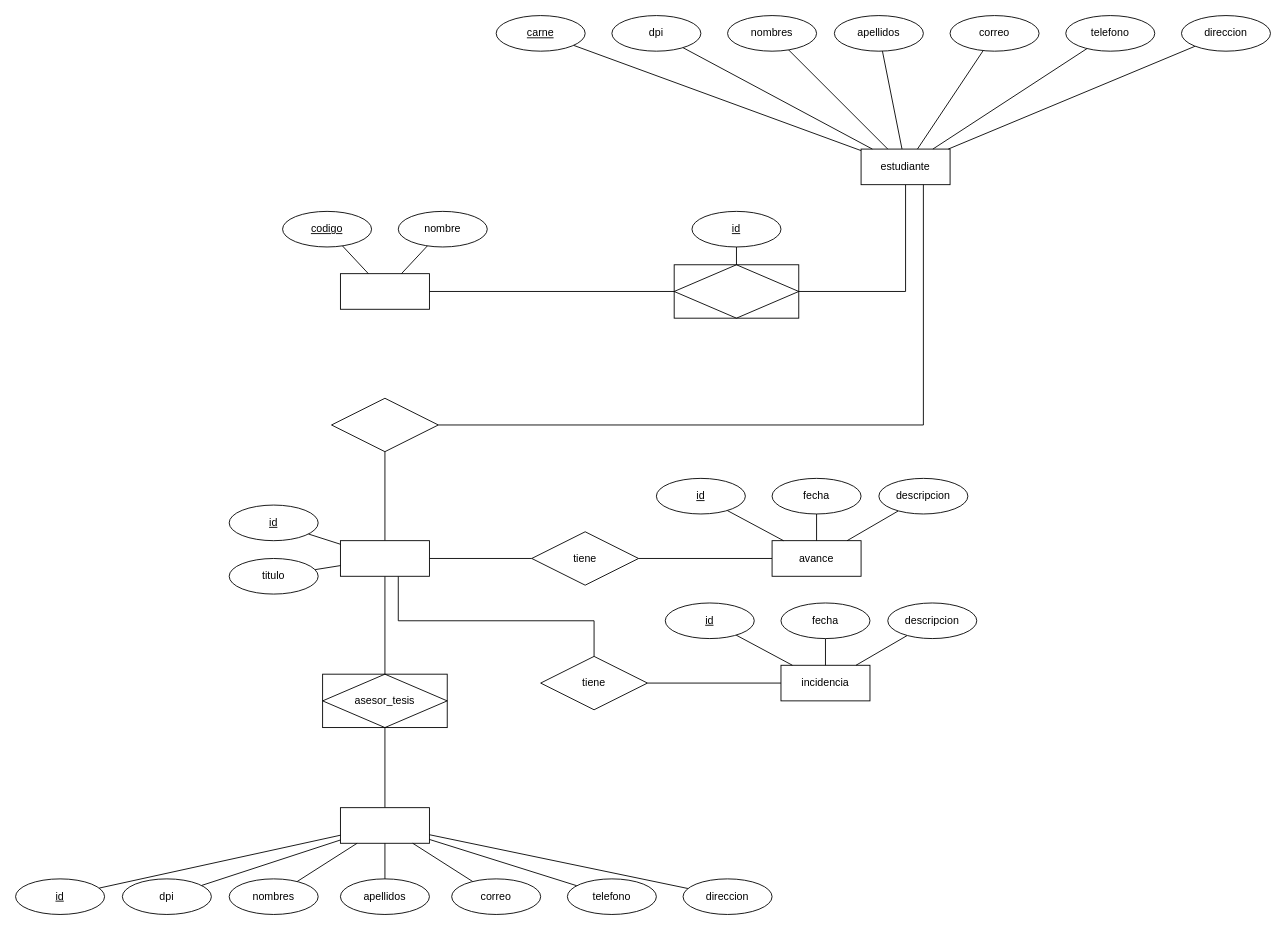
The diagram is 1286 pixels wide and 930 high, and some of its shapes have lost their labels. Here are the shapes that lost their labels. From the top down, the centre of each, then its label:
At point 384,291: "carrera".
At point 736,291: "carrera_estudiante".
At point 384,424: "hace".
At point 384,558: "tesis".
At point 384,825: "asesor".
